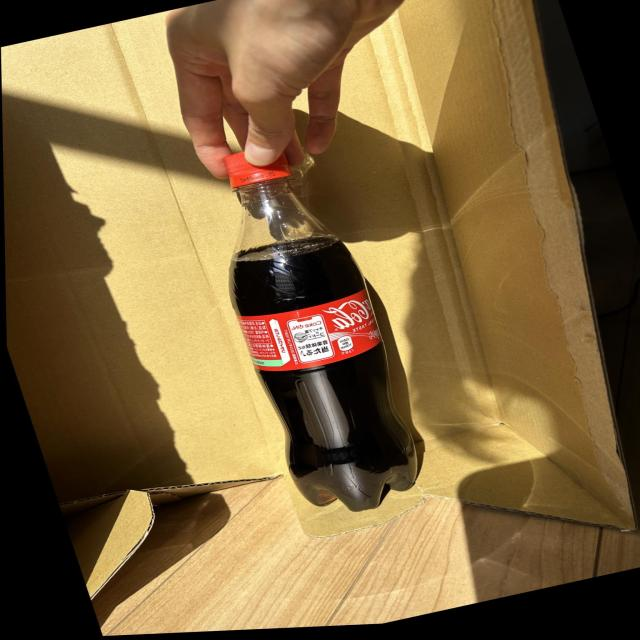high: (226, 153, 417, 511)
